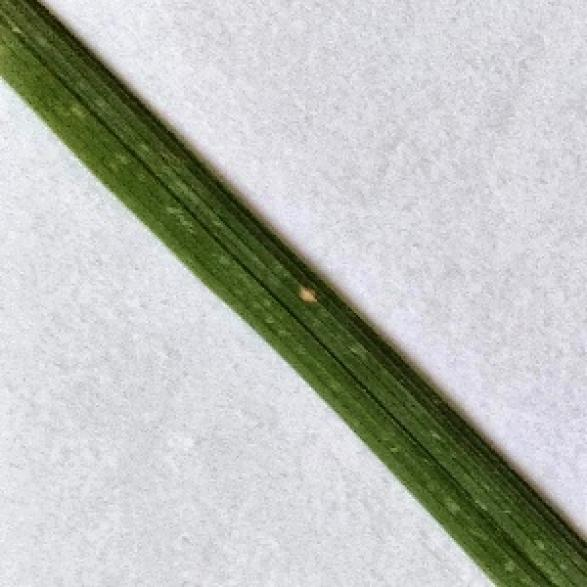Leaf_smut: (268, 254, 337, 311)
